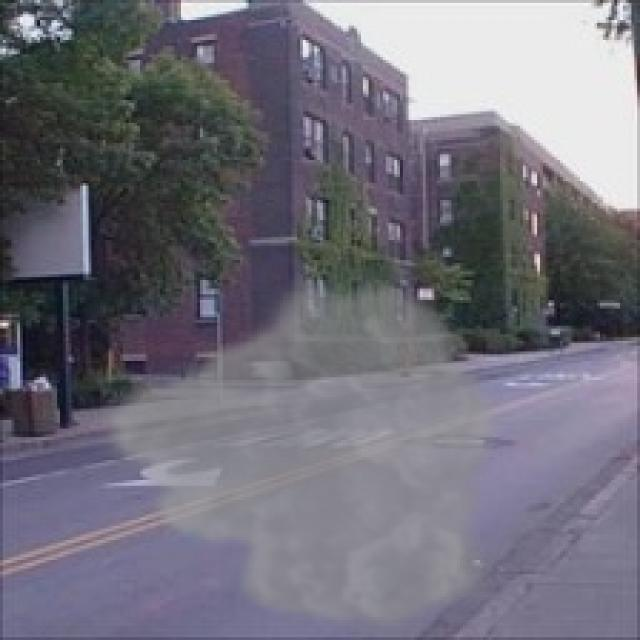Smoke: (94, 268, 503, 634)
